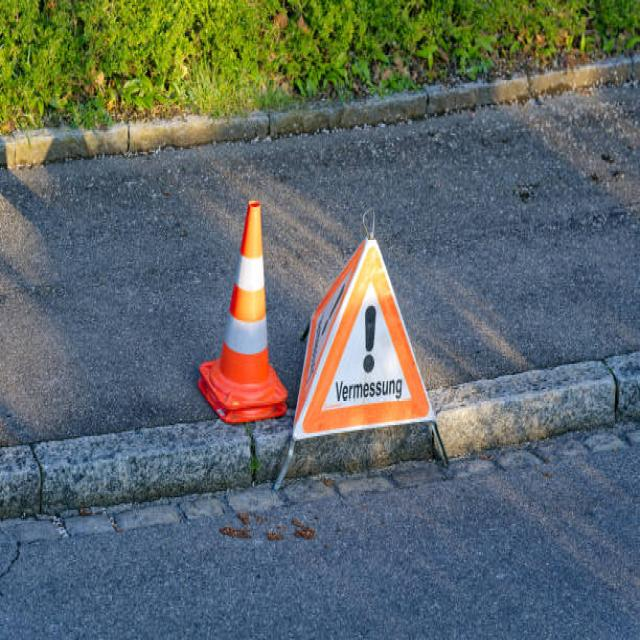Traffic Cone: (185, 166, 300, 441)
